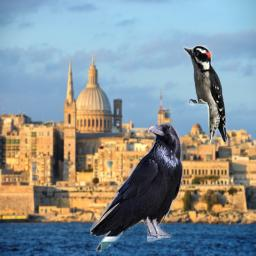Crow: (90, 122, 183, 252)
Woodpecker: (183, 45, 227, 142)
